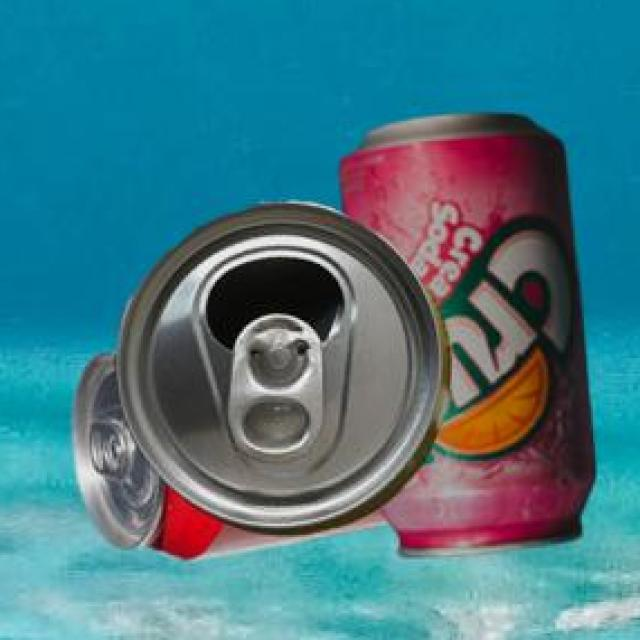logam: (343, 117, 599, 561), (117, 205, 453, 538), (77, 357, 393, 563)
